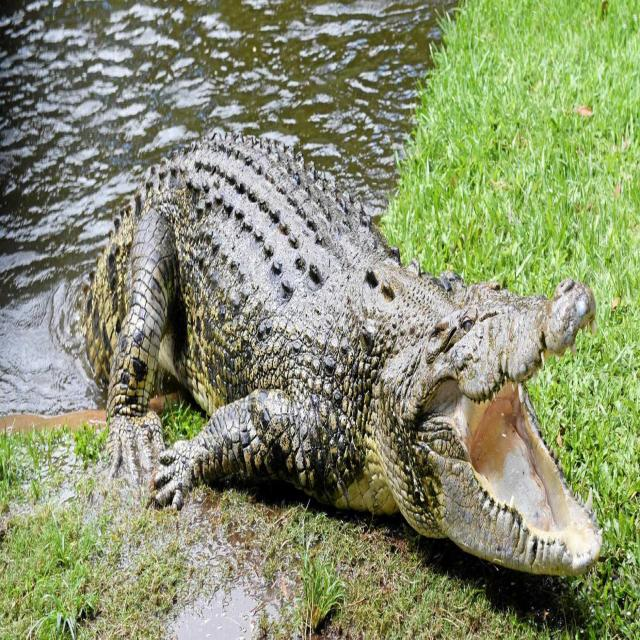crocodile: (81, 134, 605, 584)
